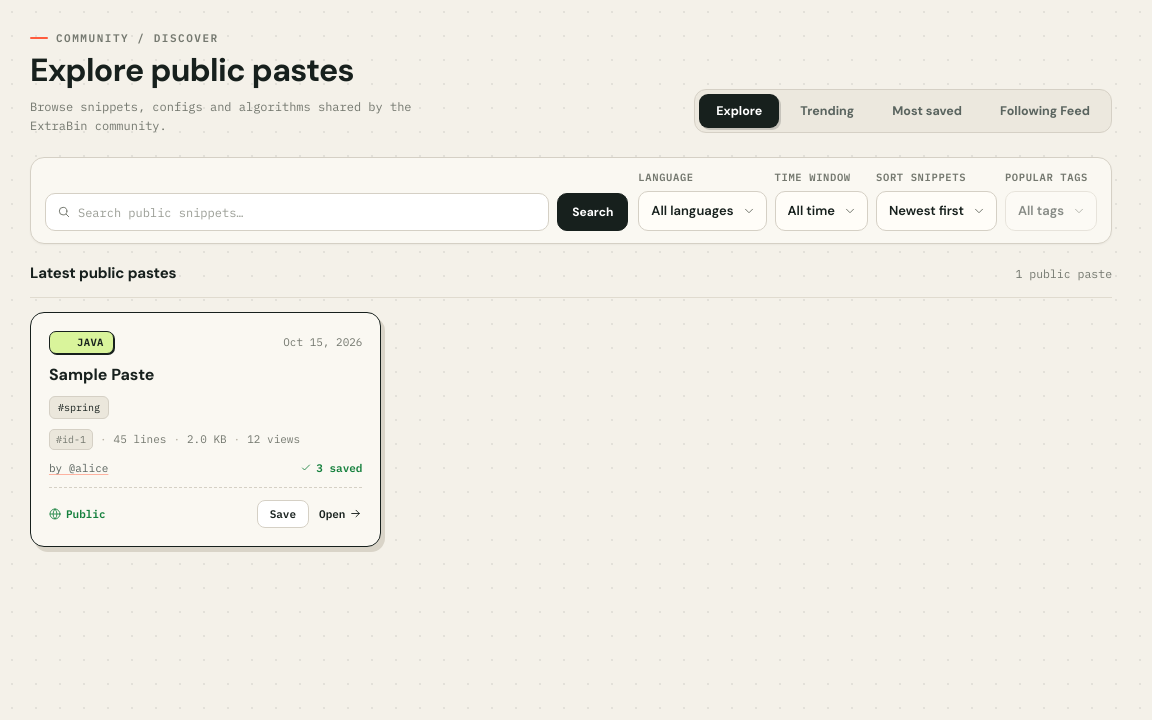
DiscoveryPage redesign contract › RED-D22 successfulSave_reflectsServerStarredState
Click the button named "Save snippet Sample Paste". click: (283, 514)
box: [257,500,309,528]
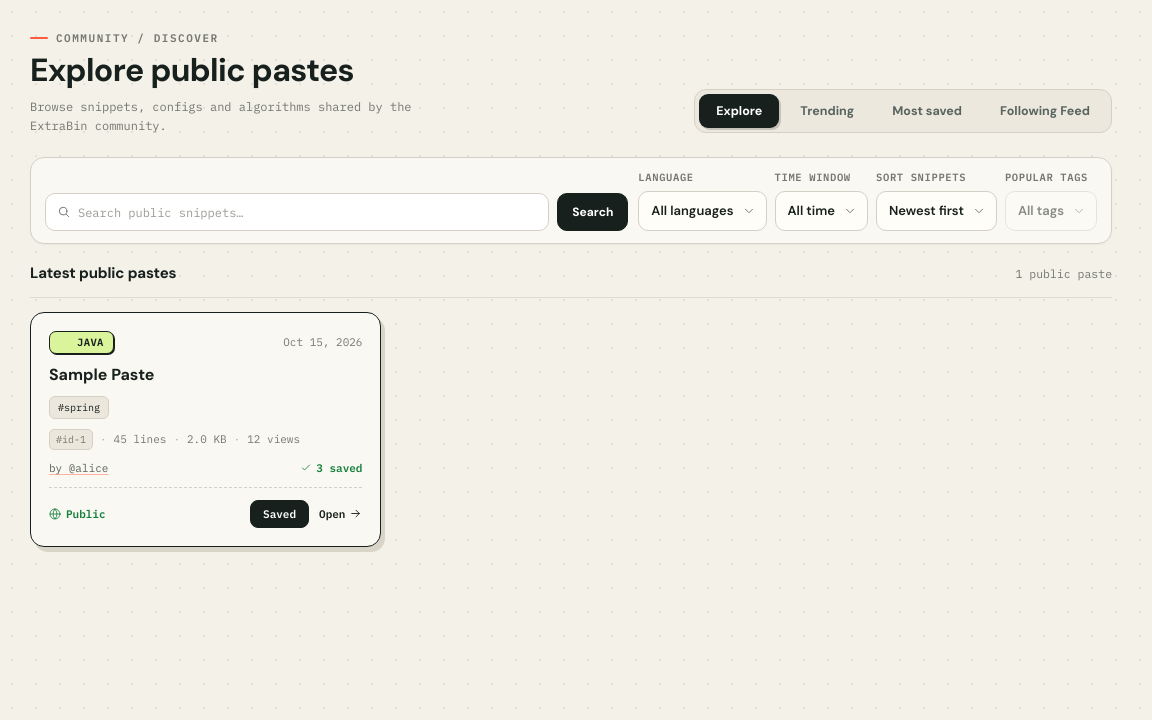
Check: the button named "Remove saved snippet Sample Paste" is shown, box [250,500,309,528]
